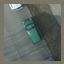car: (22, 17, 41, 44)
